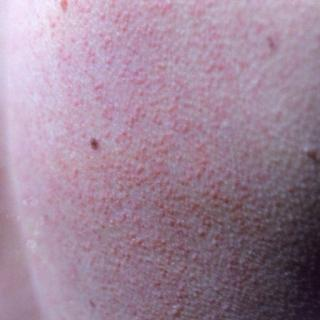urticaria: (79, 51, 255, 320)
